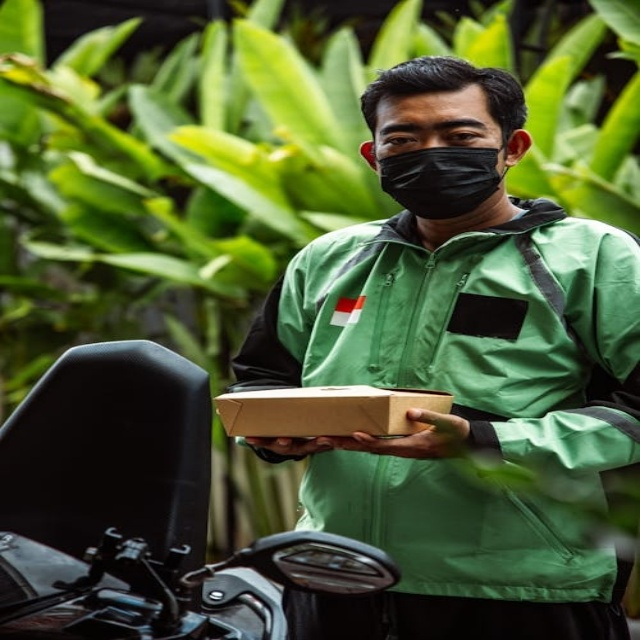Mascara: (378, 145, 508, 217)
Sin_gafas: (380, 114, 493, 147)
Sin_guantes: (333, 408, 471, 462), (238, 433, 334, 461)
